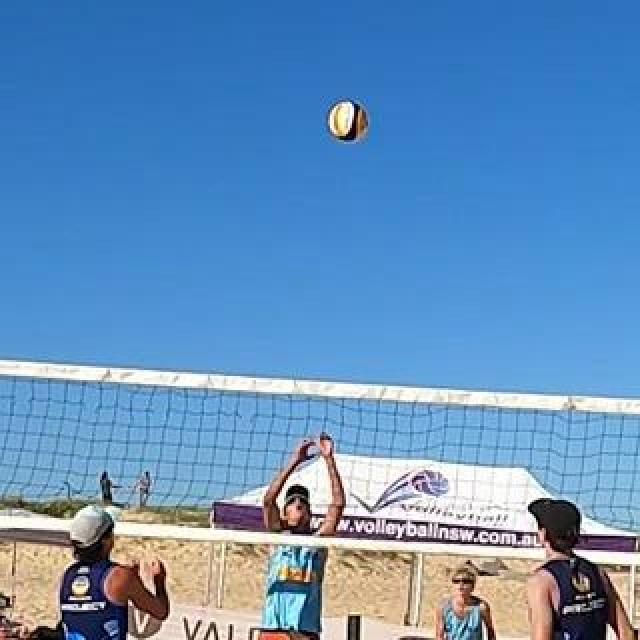volleyball: (330, 102, 368, 140)
